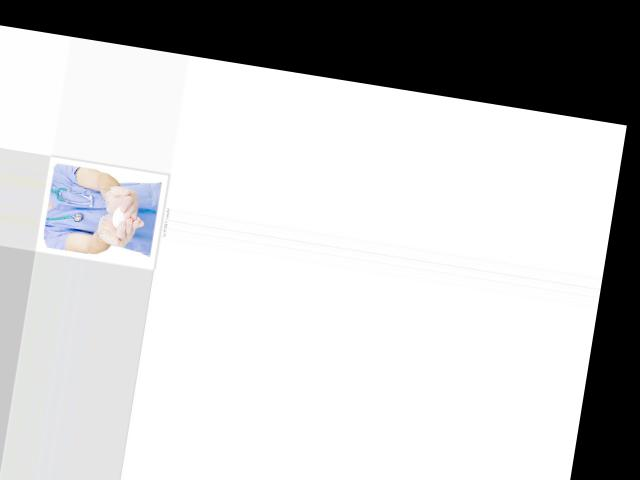egg: (111, 205, 128, 228)
